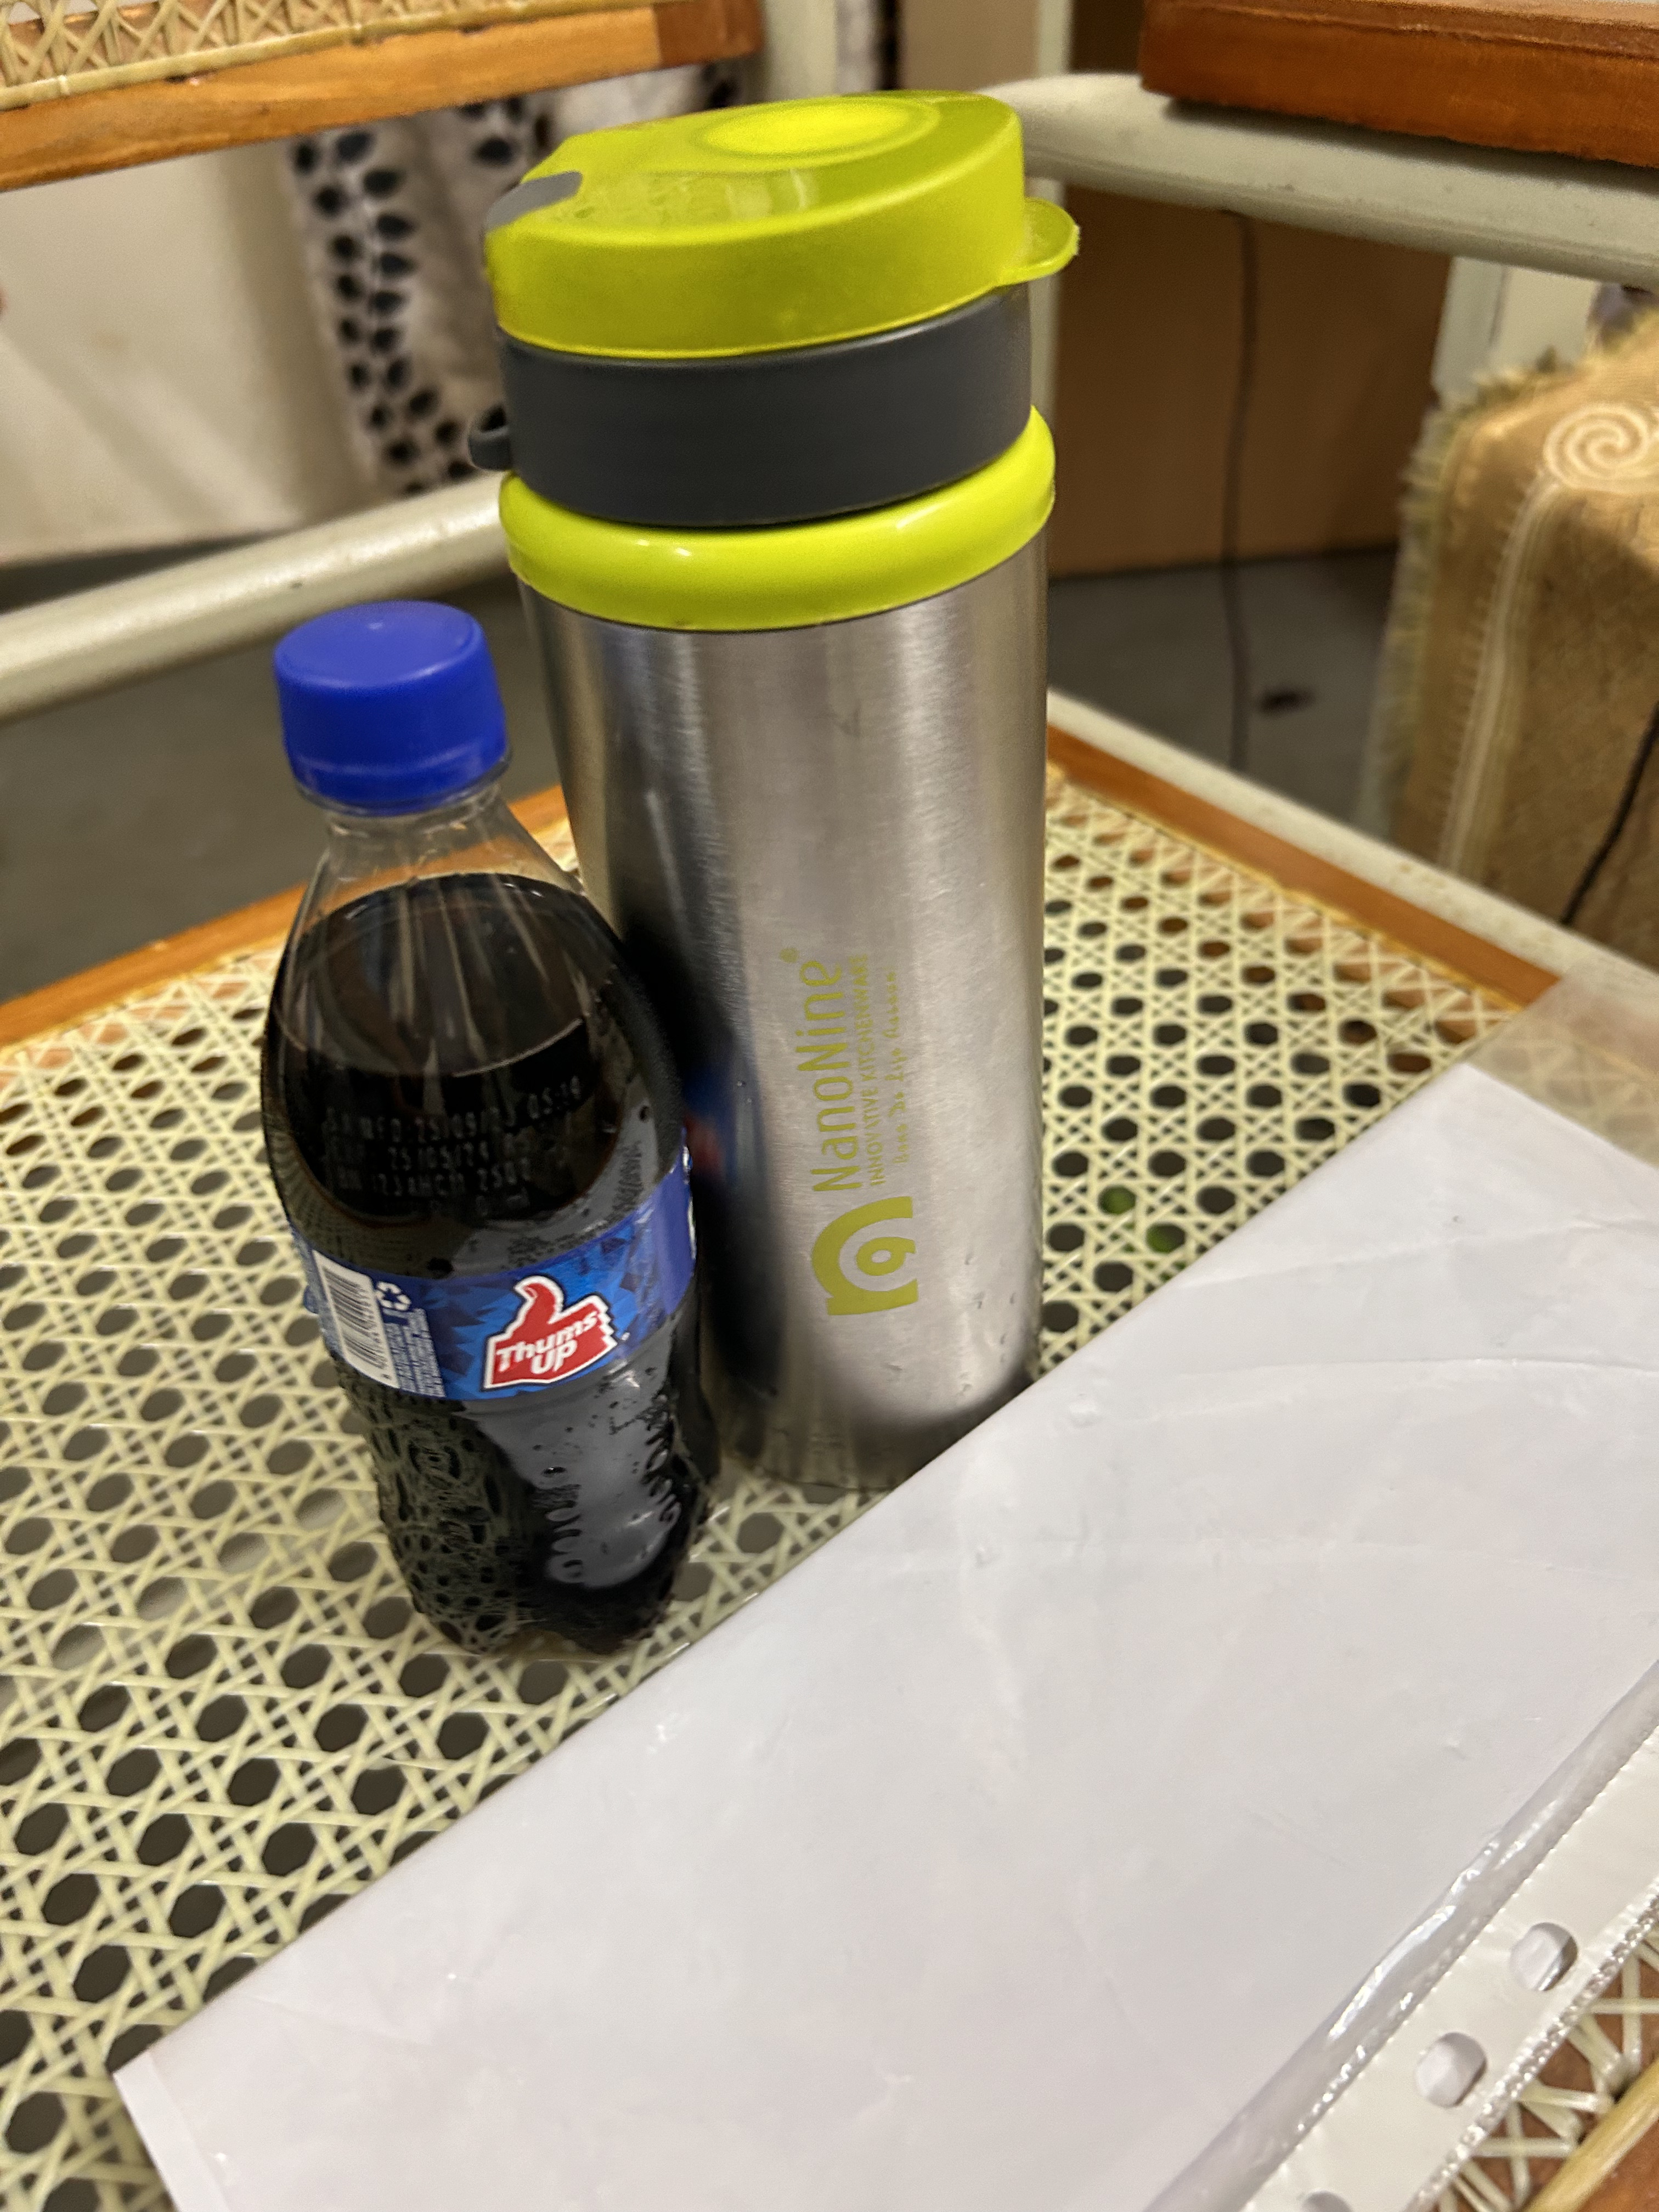sealstable: (244, 573, 523, 852)
